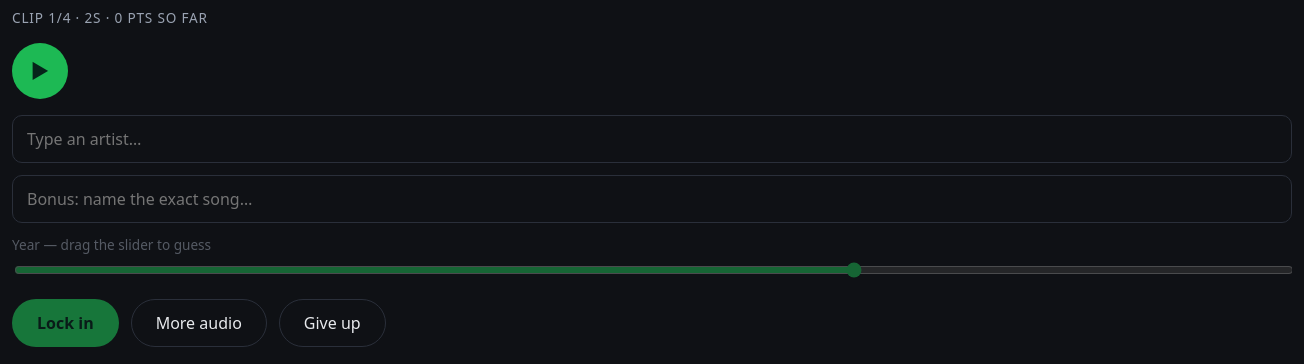
Test: Round › shows a live countdown once the clip starts playing
Click the button named "play": [40, 71] box [12,43,68,99]
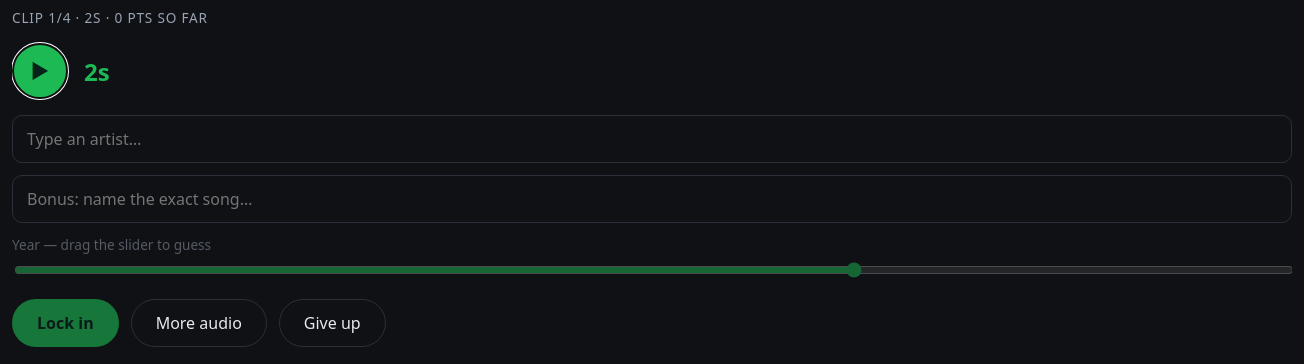
Expected: the text with test id "countdown" shows "2", [84,54,98,88]
